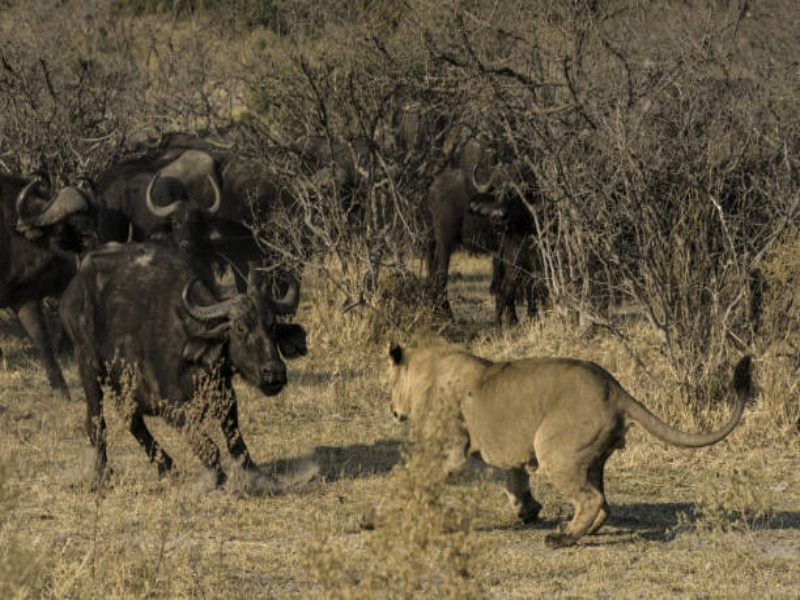buffalo: (49, 228, 313, 503)
